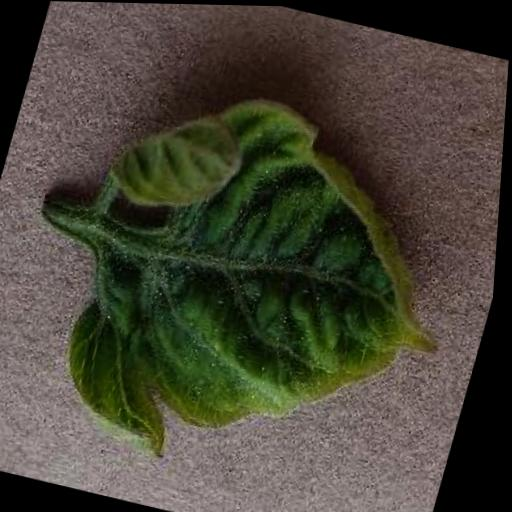Yellow Leaf Curl Virus: (28, 59, 504, 512)
